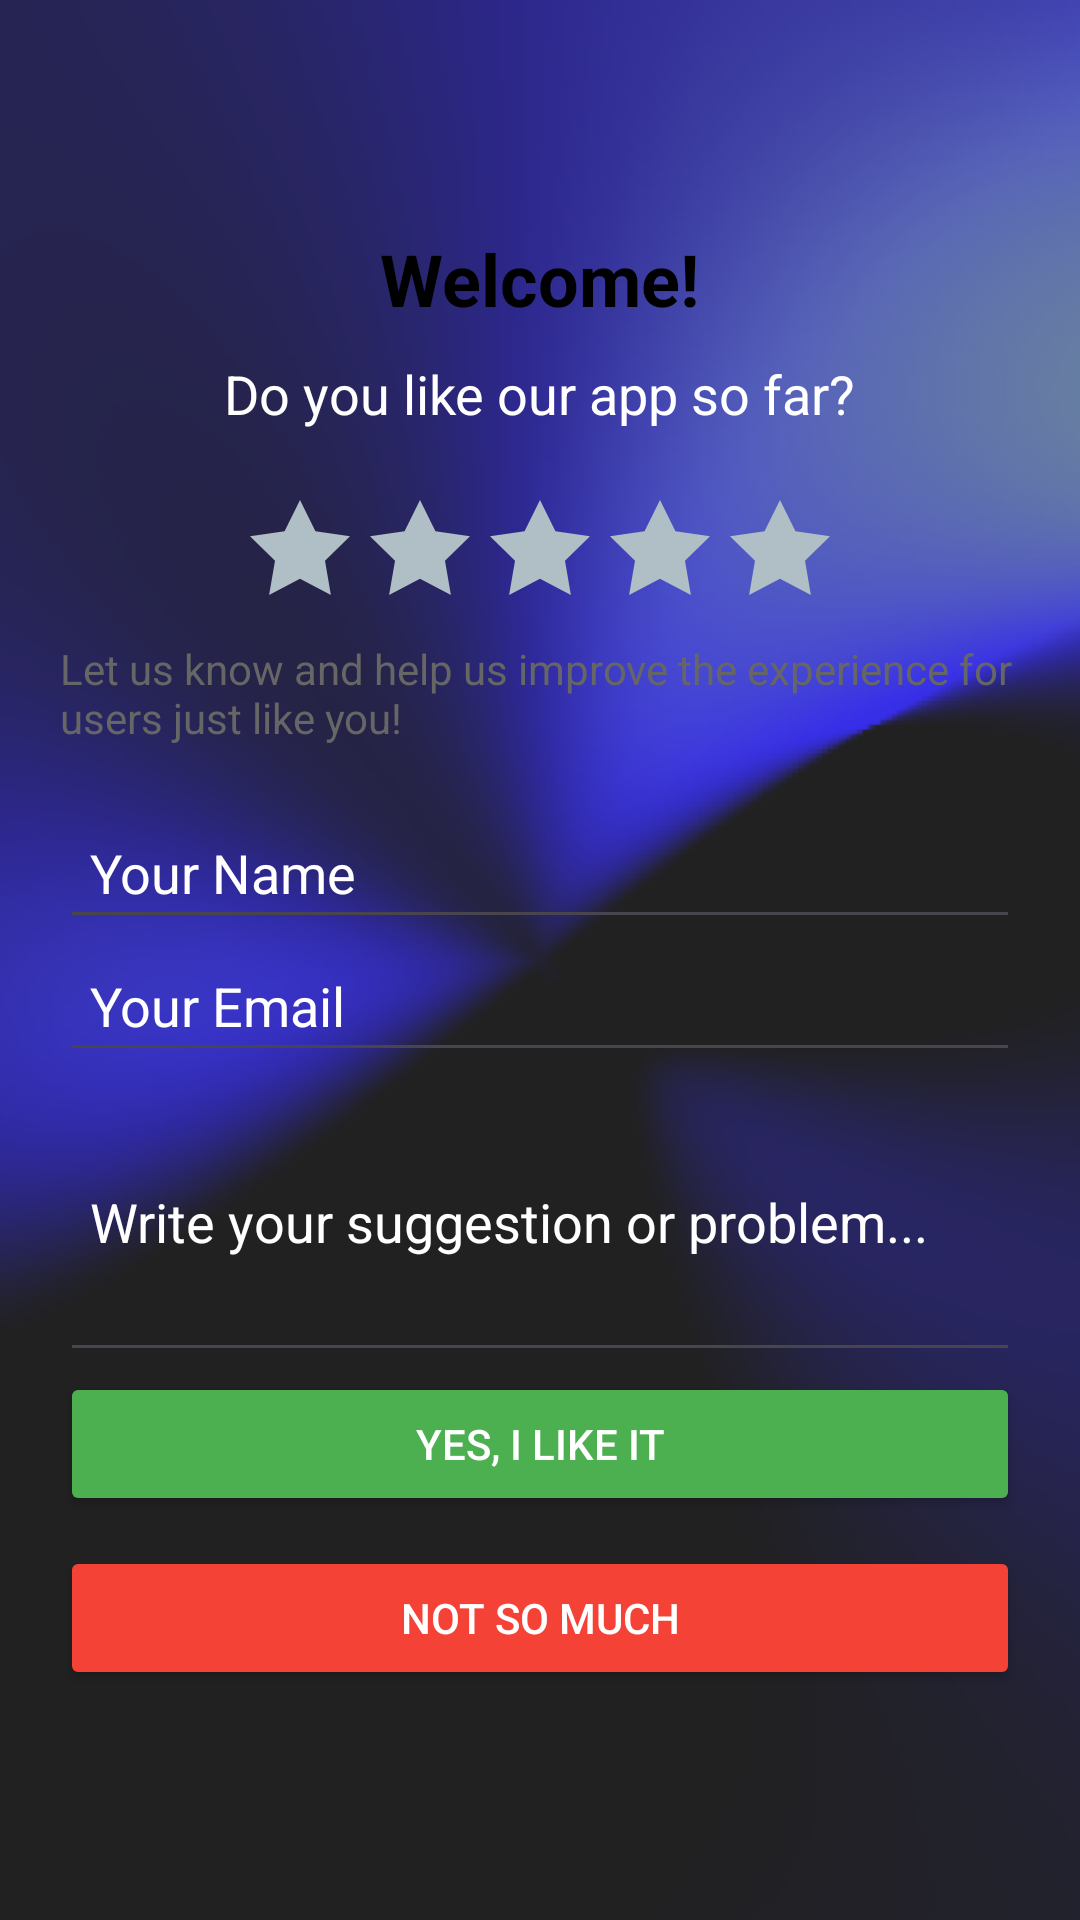

Point at icon controls on the screen. Image size 1080 × 1920, points as (x,y).
star empty: (420,550), (540,550), (665,545), (300,547), (780,547)
